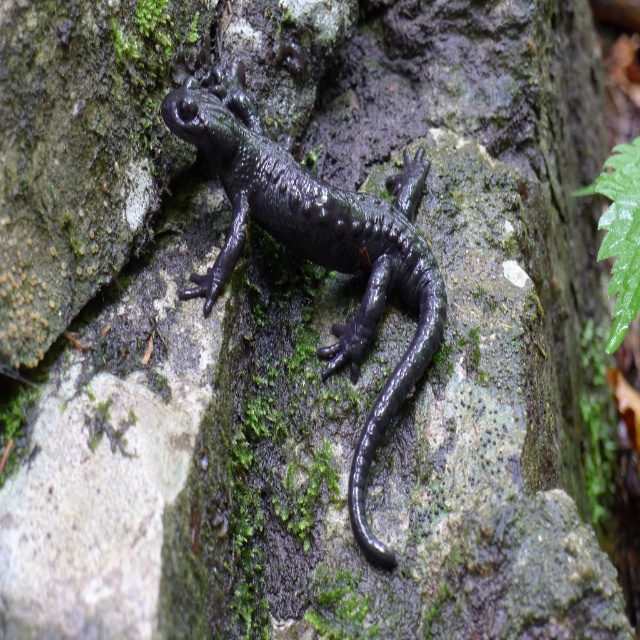Lizard: (162, 55, 447, 568)
